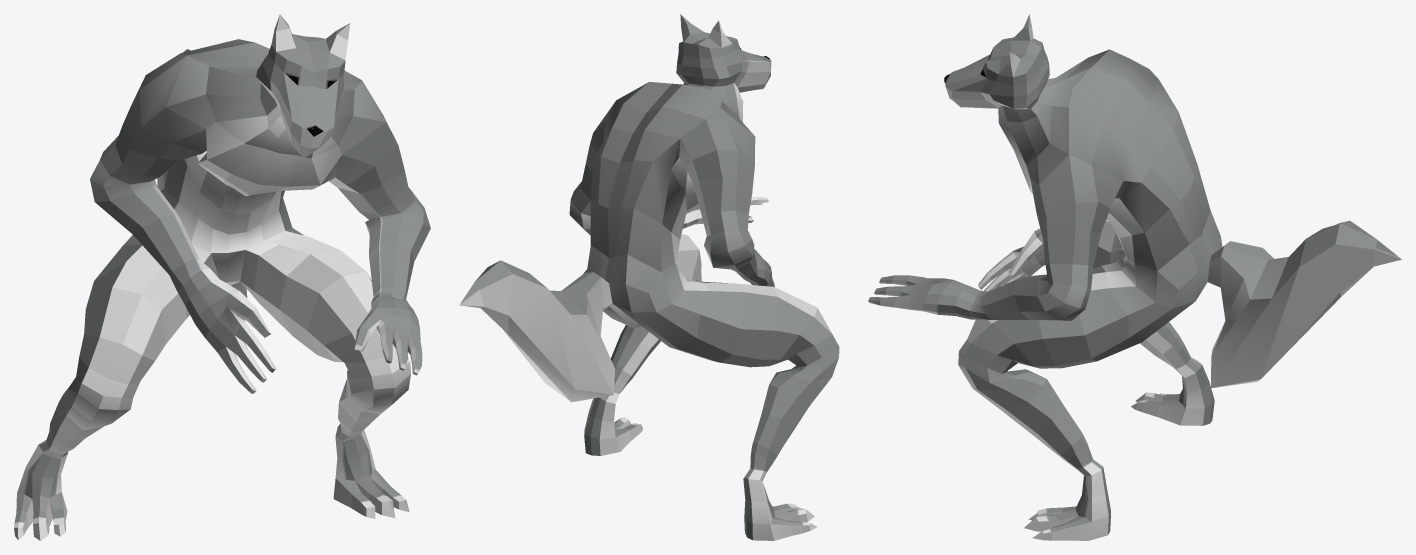
The model's file is WolfAttack(99).obj.
3 views of the same model, side by side, from view 1: azimuth 30°, elevation 25°; view 2: azimuth 150°, elevation 25°; view 3: azimuth 270°, elevation 25° (orthographic). The views are drawn at different scales.
Visible parts, largest first — view 1: Box001; view 2: Box001; view 3: Box001.
Part boxes in pixels (x1,y1,x2,y2): Box001: [14, 14, 430, 540]; Box001: [459, 14, 839, 540]; Box001: [868, 14, 1401, 540].
Size of the model in its own units: 82.72 by 118 by 122.
